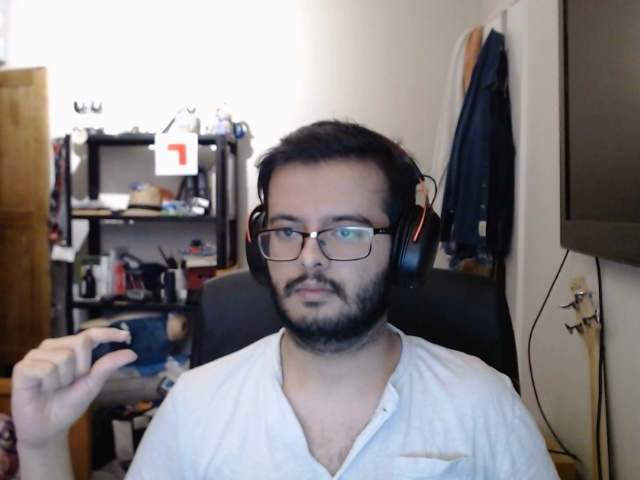Small: (1, 322, 145, 455)
